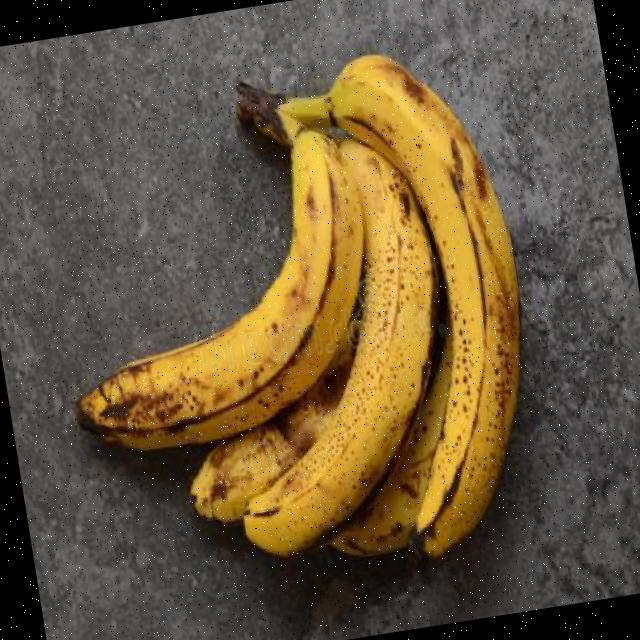banana: (191, 139, 434, 560), (75, 101, 359, 453), (332, 71, 520, 564)
